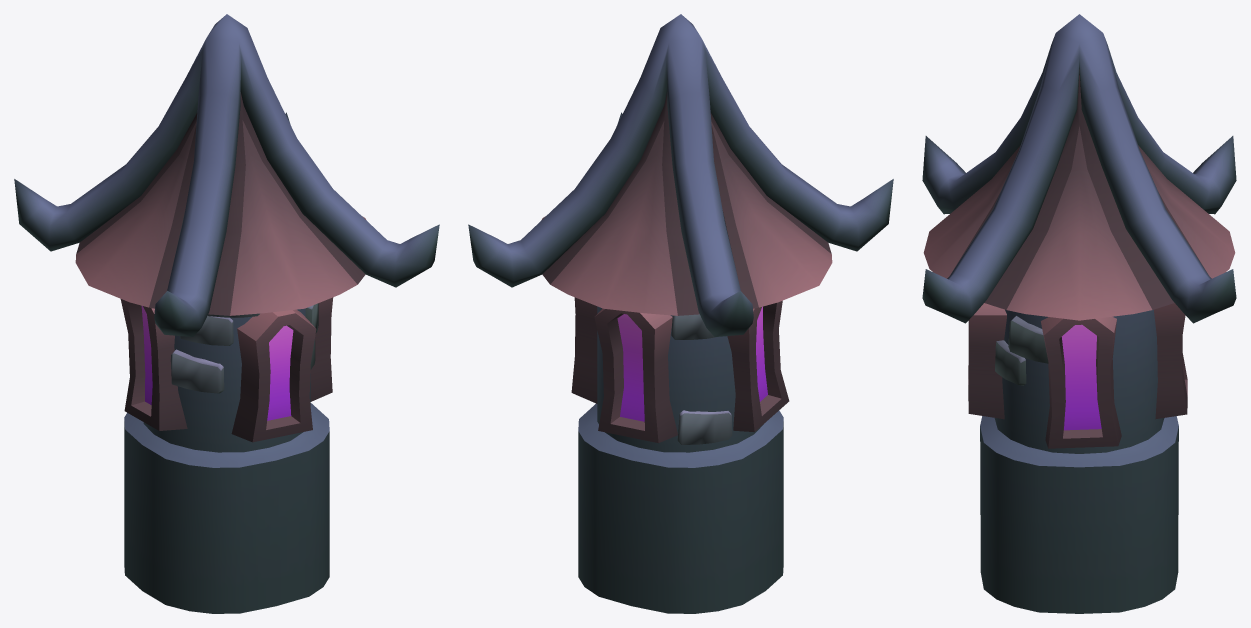
File: undead_tower_small.fbx
3 views of the same model, side by side, from view 1: azimuth 30°, elevation 25°; view 2: azimuth 150°, elevation 25°; view 3: azimuth 270°, elevation 25° (orthographic).
Parts seen in each view (by area): view 1: undead_tower_small; view 2: undead_tower_small; view 3: undead_tower_small.
Boxes of the visible parts, x1,y1,x2,y2 form: undead_tower_small: [14, 14, 439, 613]; undead_tower_small: [468, 14, 893, 613]; undead_tower_small: [922, 14, 1236, 613].
Bounding box in the file's own units: 3.88 × 7.46 × 3.8.
